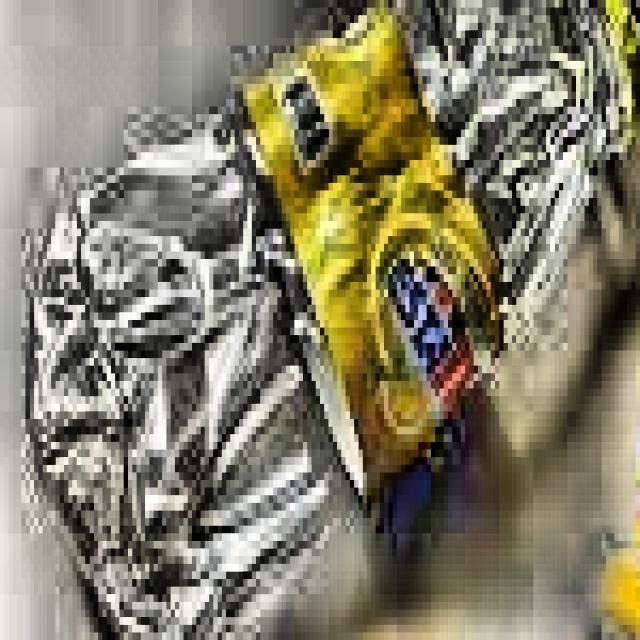plastic: (0, 0, 640, 640), (465, 45, 640, 640)
